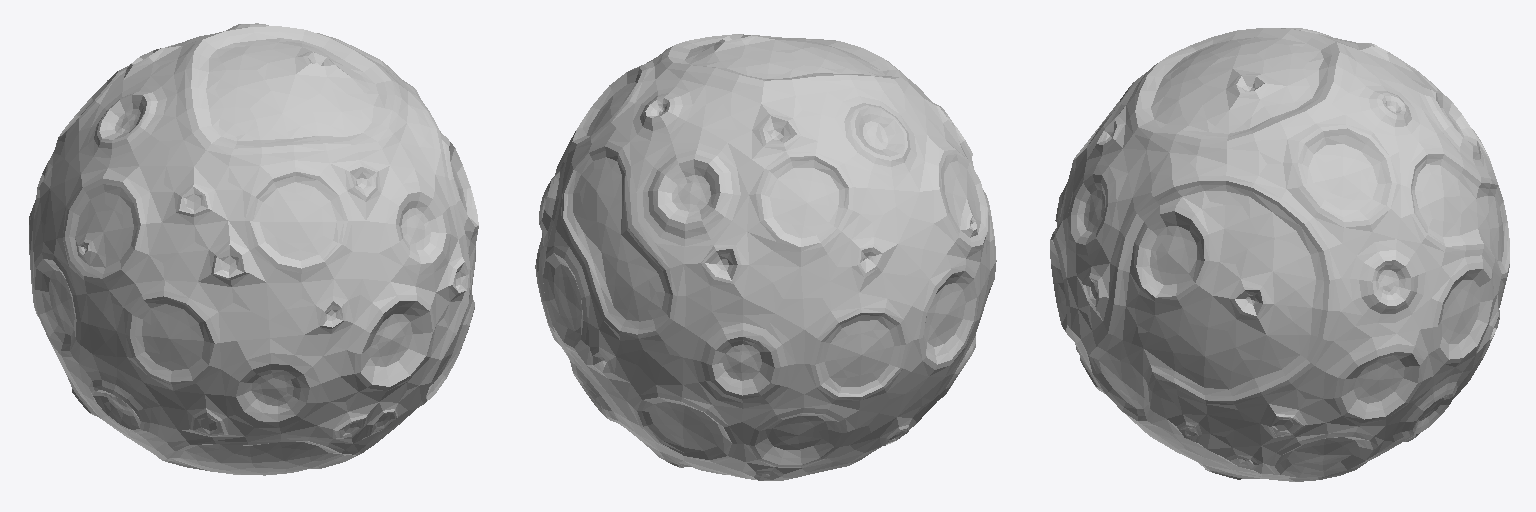
The model's file is Moon2.obj.
The picture shows the model from 3 angles: view 1: azimuth 30°, elevation 25°; view 2: azimuth 150°, elevation 25°; view 3: azimuth 270°, elevation 25°; orthographic projection.
Visible parts, largest first — view 1: Moon.001; view 2: Moon.001; view 3: Moon.001.
Part boxes in pixels (bbox=[...]): Moon.001: bbox=[29, 23, 478, 475]; Moon.001: bbox=[535, 34, 996, 480]; Moon.001: bbox=[1050, 28, 1509, 481].
Bounding box in the file's own units: 7.42 × 7.4 × 7.59.